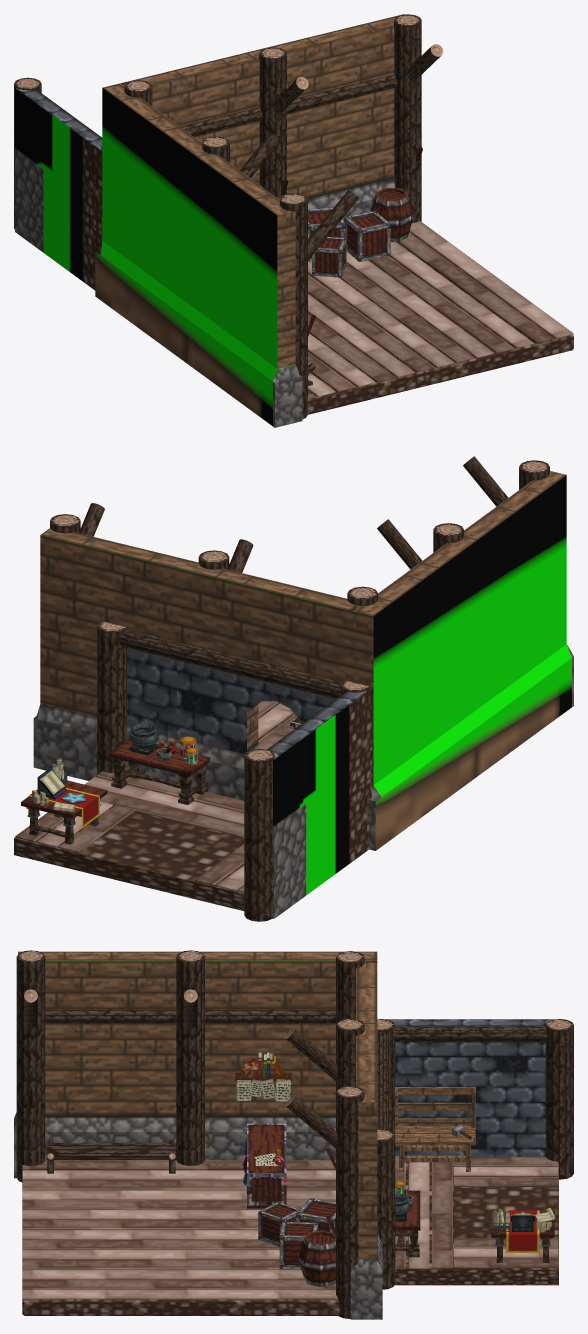
File: ShopV3.fbx
3 views of the same model, one above another, from view 1: azimuth 30°, elevation 25°; view 2: azimuth 150°, elevation 25°; view 3: azimuth 270°, elevation 25° (orthographic). The views are drawn at different scales.
Visible parts, largest first — view 1: MainArea, Backroom, Inventory; view 2: MainArea, Backroom, AlchemyTable, EnchantTable; view 3: MainArea, Backroom, Clutter, Inventory, Workbench, EnchantTable, Planner, AlchemyTable.
Part boxes in pixels (x1,y1,x2,y2): MainArea: [95, 14, 573, 427]; Backroom: [14, 77, 102, 290]; Inventory: [308, 187, 413, 277]; MainArea: [33, 456, 573, 850]; Backroom: [14, 621, 372, 921]; AlchemyTable: [109, 723, 210, 804]; EnchantTable: [21, 758, 107, 844]; MainArea: [14, 950, 382, 1319]; Backroom: [377, 1019, 573, 1289]; Clutter: [29, 1090, 336, 1239]; Inventory: [258, 1198, 335, 1286]; Workbench: [394, 1087, 475, 1171]; EnchantTable: [491, 1207, 555, 1262]; Planner: [235, 1052, 292, 1101]; AlchemyTable: [395, 1181, 420, 1257].
Size of the model in its own units: 224 by 149 by 341.
Materials: 3 (3 with a texture image).
